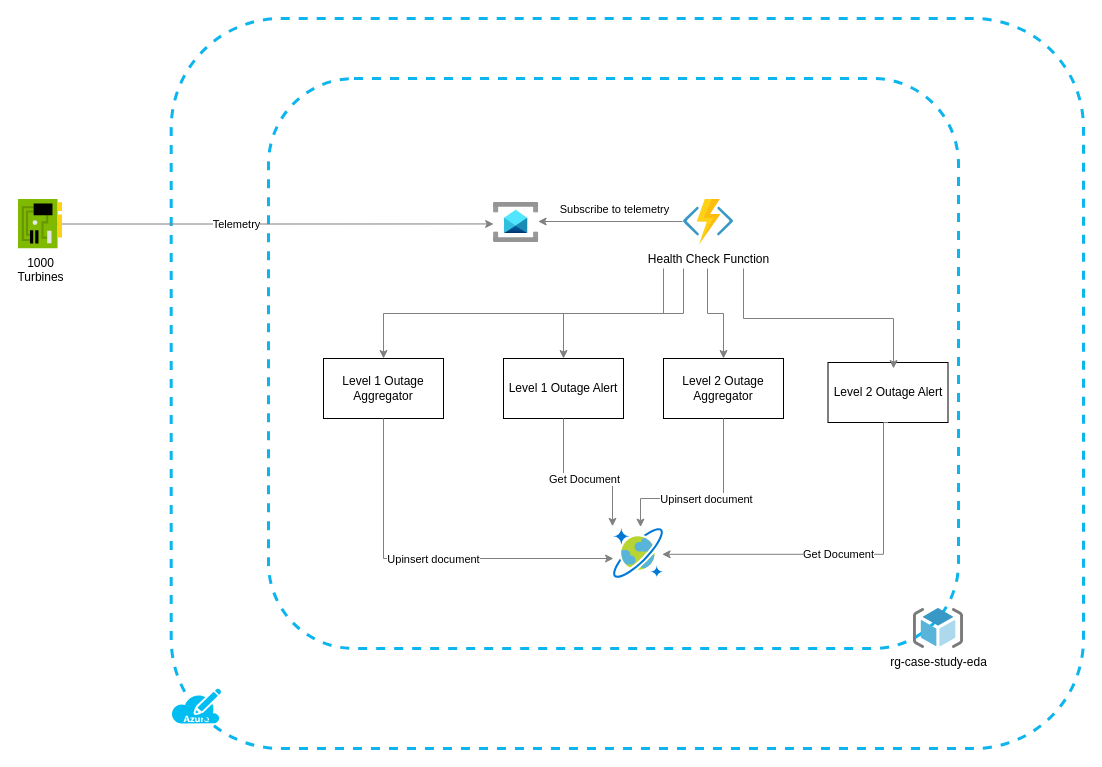
This 1102x767 diagram has some shape labels left out. The centre of each missing label's shape, as x and y in pixels:
CosmosDB: pixel 638 553
sub-case-study-eda: pixel 196 705
Telemetry Topic: pixel 515 222
